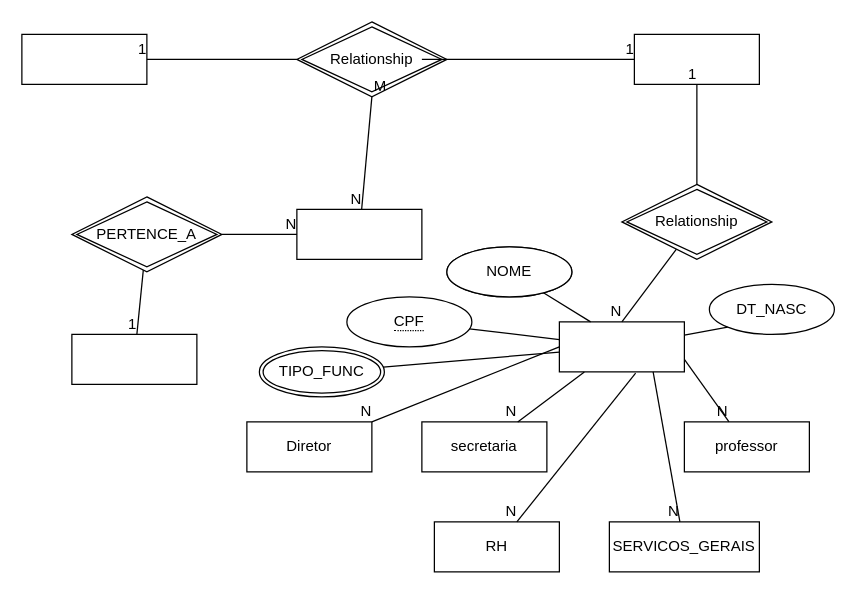
Image size: 856x594. Some labels were removed from this diagram. The shapes that lost their labels are listed below. From the top down, each one's centre as x and y in pixels, then its label:
At pixel 84 58: "Aluno".
At pixel 696 58: "biblioteca".
At pixel 359 233: "livros".
At pixel 134 358: "SESSAO".
At pixel 621 346: "Funcionarios".
